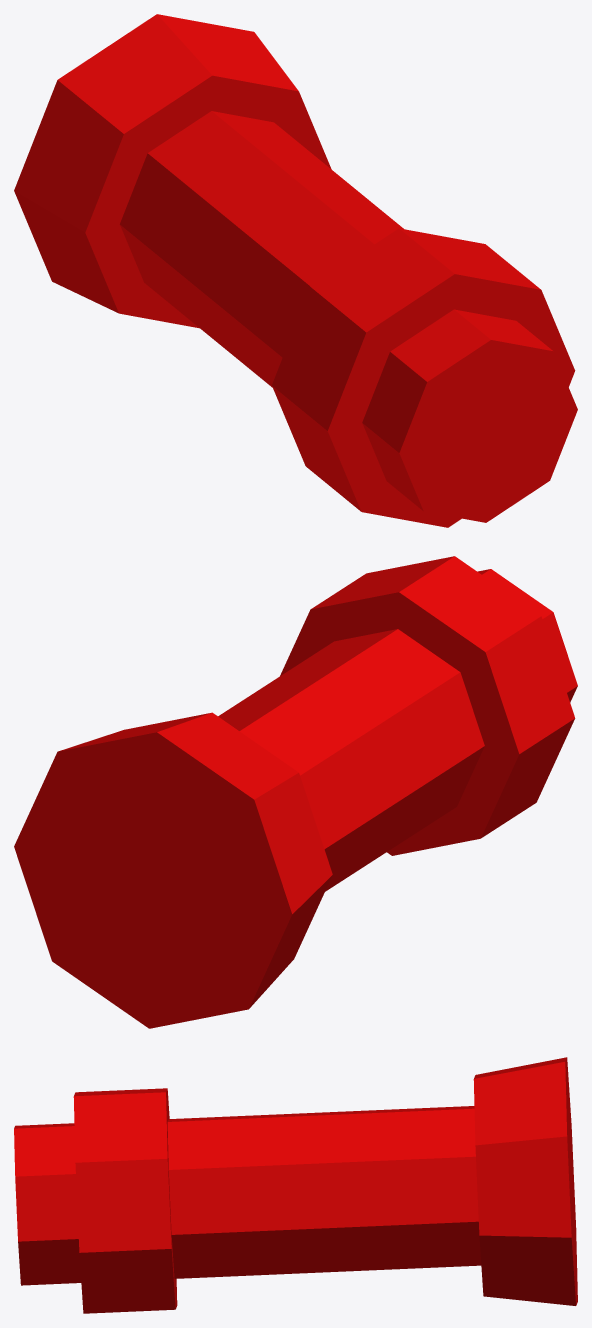
File: Asset_KeyFragment1.glb
3 renders of one model, top to bottom at view 1: azimuth 30°, elevation 25°; view 2: azimuth 150°, elevation 25°; view 3: azimuth 270°, elevation 25°, orthographic. The views are drawn at different scales.
Visible parts, largest first — view 1: Asset_KeyFragment1; view 2: Asset_KeyFragment1; view 3: Asset_KeyFragment1.
Boxes of the visible parts, left/top/right/bottom form: Asset_KeyFragment1: left=14, top=14, right=577, bottom=527; Asset_KeyFragment1: left=14, top=556, right=577, bottom=1028; Asset_KeyFragment1: left=14, top=1057, right=577, bottom=1313.
Bounding box in the file's own units: 0.1248 × 0.1289 × 0.2655.
